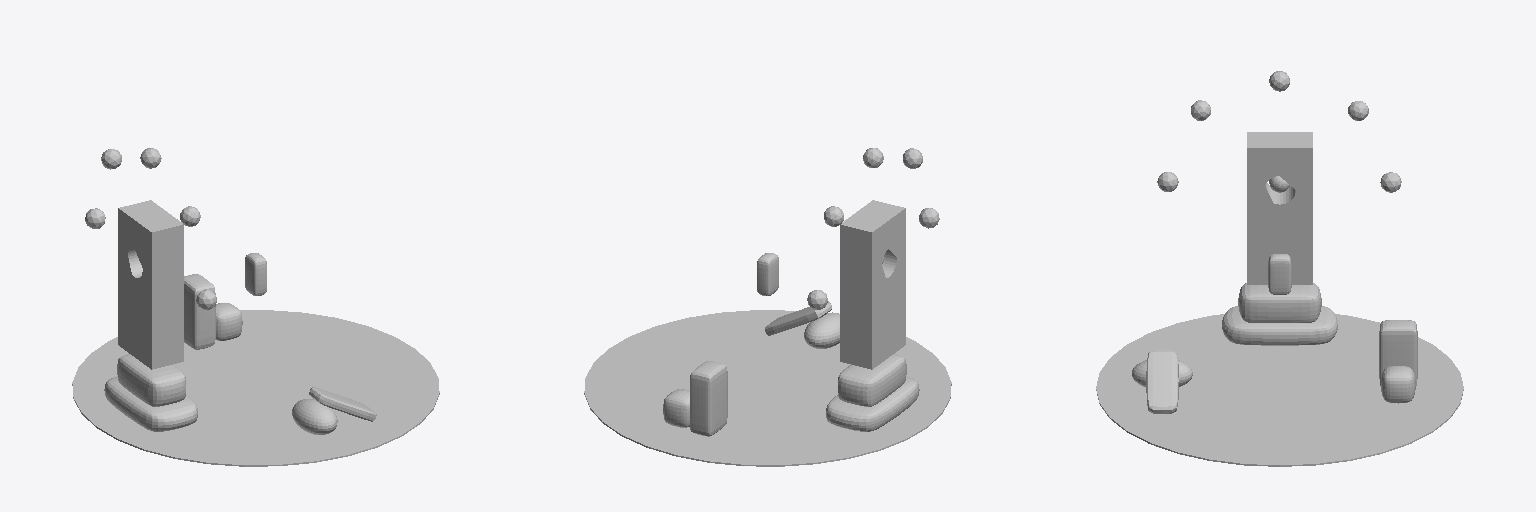
File: Enchanting_Shrine.obj
3 renders of one model, left to right at view 1: azimuth 30°, elevation 25°; view 2: azimuth 150°, elevation 25°; view 3: azimuth 270°, elevation 25°, orthographic.
Visible parts, largest first — view 1: Cylinder, Cube.002_Cube.004, Cube.001_Cube.003, Cube_Cube.002, Cube.004_Cube.006, Icosphere.001, Sphere.001, Cube.003_Cube.005, Cube.005_Cube.007, Cube.006_Cube.008; view 2: Cylinder, Cube.002_Cube.004, Cube.004_Cube.006, Cube.001_Cube.003, Cube_Cube.002, Icosphere.001, Sphere.001, Cube.005_Cube.007, Cube.003_Cube.005, Cube.006_Cube.008; view 3: Cylinder, Cube.002_Cube.004, Cube_Cube.002, Cube.001_Cube.003, Cube.003_Cube.005, Cube.004_Cube.006, Icosphere.001, Cube.005_Cube.007, Cube.006_Cube.008, Sphere.001.
Boxes of the visible parts, box(x1,y1,x2,y2) form: Cylinder: box(72, 310, 439, 466); Cube.002_Cube.004: box(118, 200, 183, 369); Cube.001_Cube.003: box(117, 354, 185, 406); Cube_Cube.002: box(104, 376, 197, 431); Cube.004_Cube.006: box(184, 274, 215, 349); Icosphere.001: box(85, 148, 216, 310); Sphere.001: box(292, 399, 337, 434); Cube.003_Cube.005: box(309, 387, 376, 421); Cube.005_Cube.007: box(215, 303, 242, 340); Cube.006_Cube.008: box(245, 253, 266, 295); Cylinder: box(584, 310, 951, 466); Cube.002_Cube.004: box(840, 200, 905, 369); Cube.004_Cube.006: box(690, 361, 727, 436); Cube.001_Cube.003: box(838, 354, 906, 406); Cube_Cube.002: box(826, 376, 919, 431); Icosphere.001: box(807, 148, 939, 309); Sphere.001: box(804, 312, 839, 348); Cube.005_Cube.007: box(663, 389, 689, 427); Cube.003_Cube.005: box(765, 301, 831, 335); Cube.006_Cube.008: box(757, 253, 778, 295); Cylinder: box(1096, 314, 1463, 466); Cube.002_Cube.004: box(1247, 132, 1312, 284); Cube_Cube.002: box(1222, 306, 1337, 345); Cube.001_Cube.003: box(1238, 283, 1321, 322); Cube.003_Cube.005: box(1146, 350, 1178, 413); Cube.004_Cube.006: box(1379, 320, 1417, 385); Icosphere.001: box(1157, 71, 1401, 192); Cube.005_Cube.007: box(1381, 366, 1415, 403); Cube.006_Cube.008: box(1268, 254, 1291, 294); Sphere.001: box(1132, 360, 1192, 386).
Size of the model in its own units: 5.62 by 4.49 by 5.62.